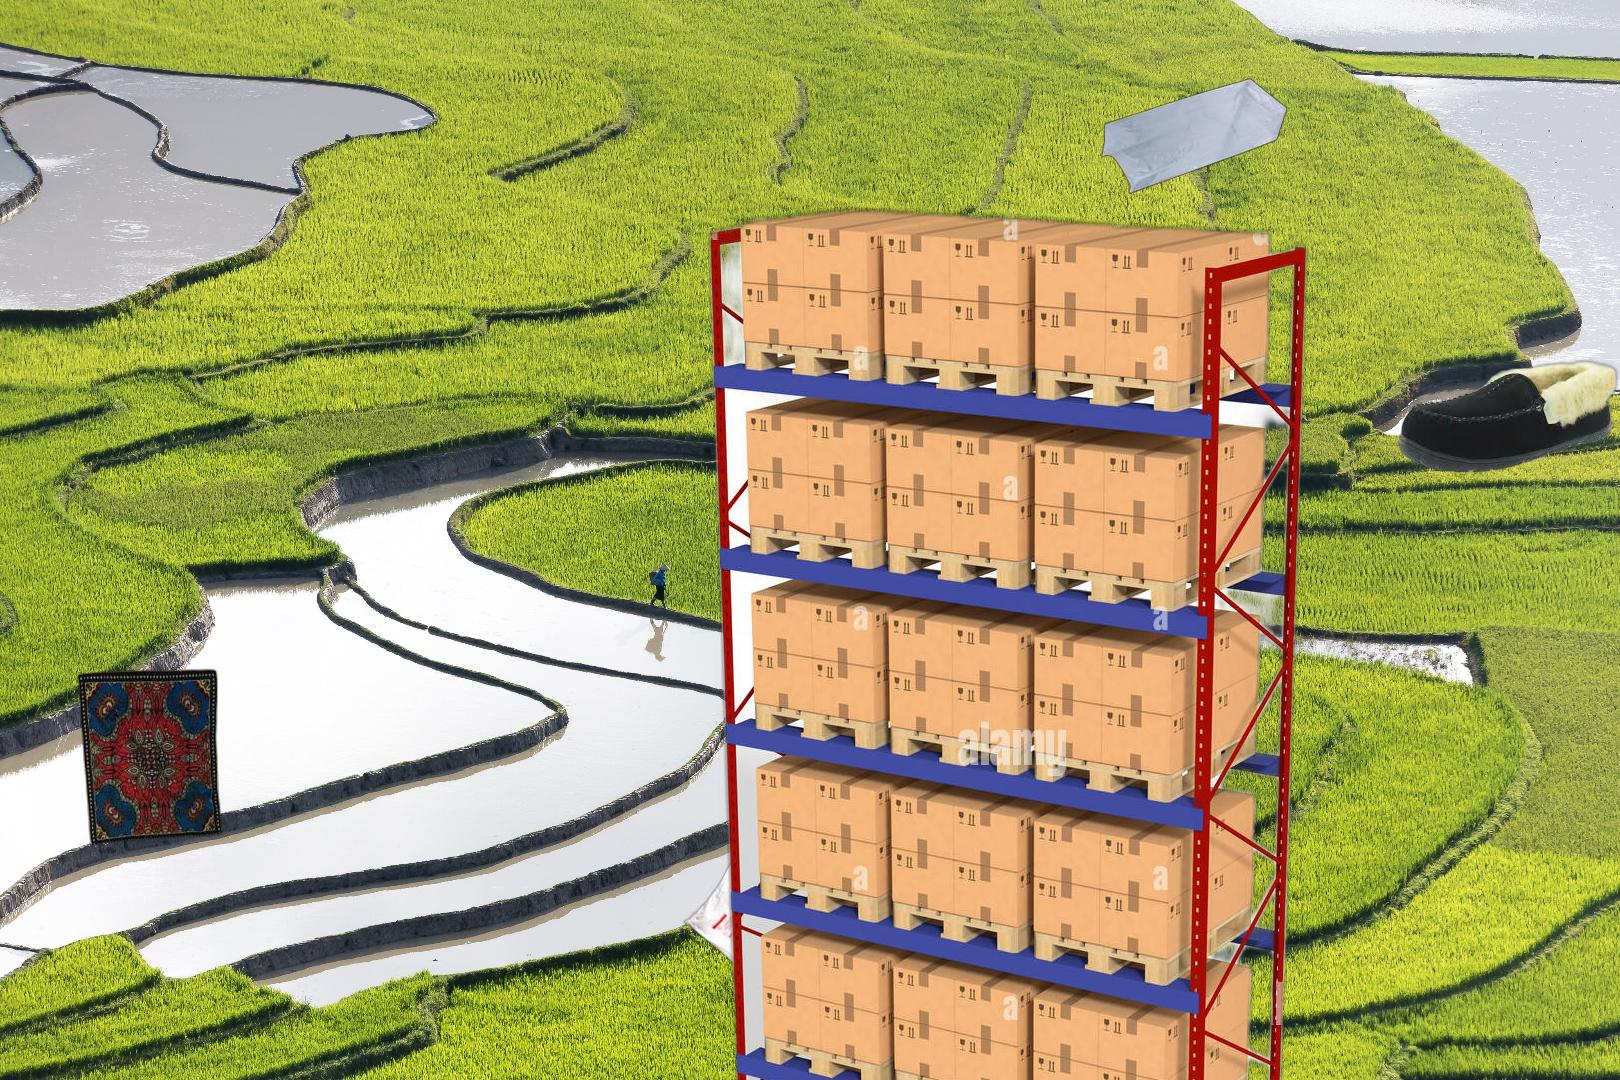clothes: (75, 667, 227, 849)
plastic-bag: (681, 855, 869, 1004), (1099, 76, 1290, 196)
shoes: (1396, 305, 1620, 475)
trashbox-cardboard: (574, 106, 1314, 1080)
